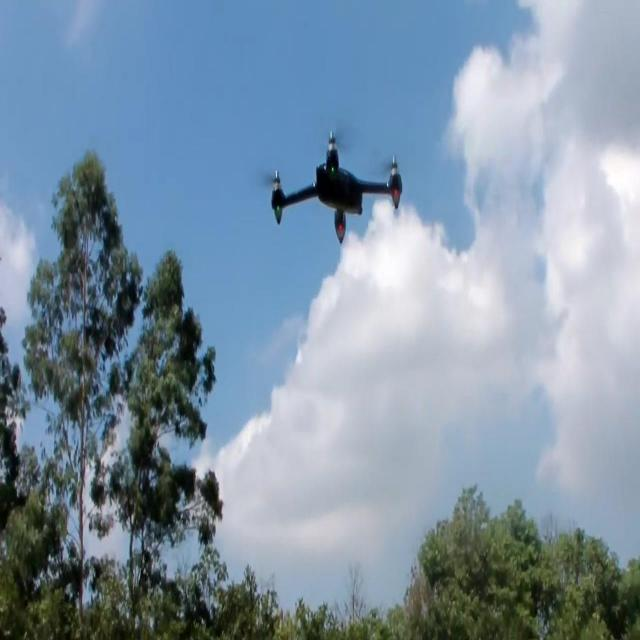UAV: (270, 129, 404, 246)
